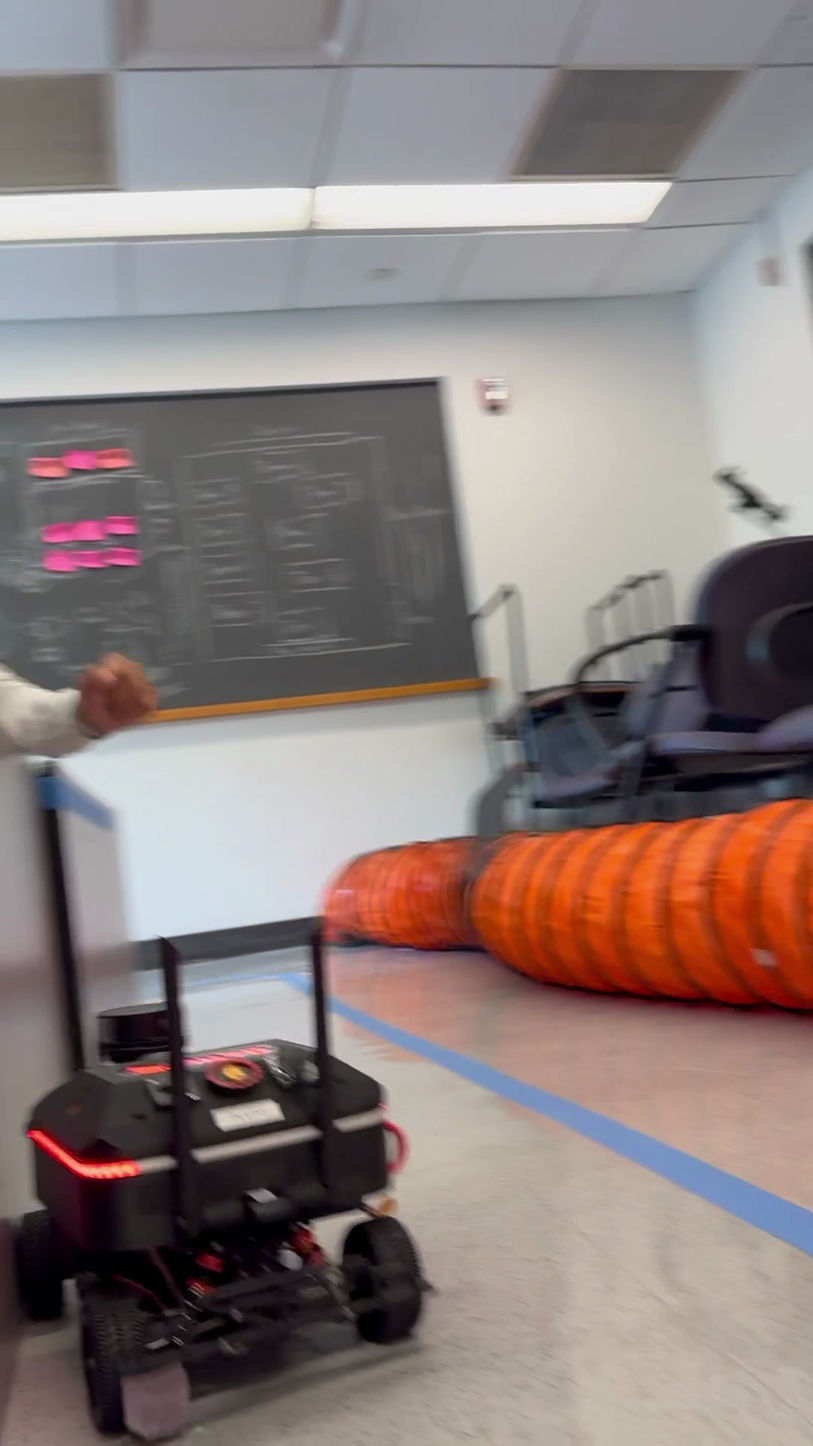racecar: (12, 926, 428, 1436)
